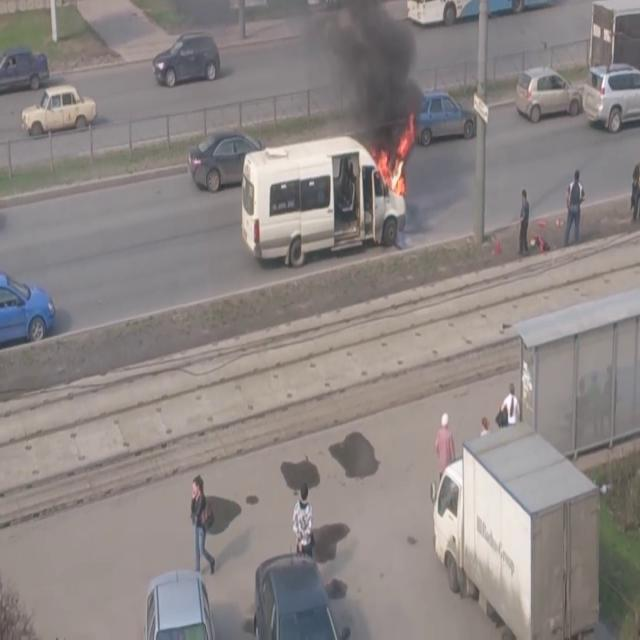Fire: (378, 127, 415, 197)
Smoke: (312, 1, 426, 144)
